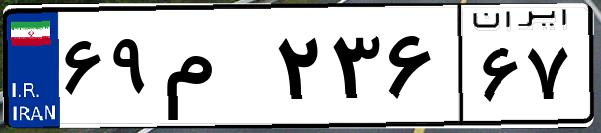2: (270, 28, 330, 110)
3: (330, 28, 385, 110)
6: (385, 28, 445, 110), (57, 26, 110, 100), (475, 38, 525, 113)
7: (525, 38, 570, 115)
9: (110, 28, 158, 98)
م: (158, 20, 270, 120)
